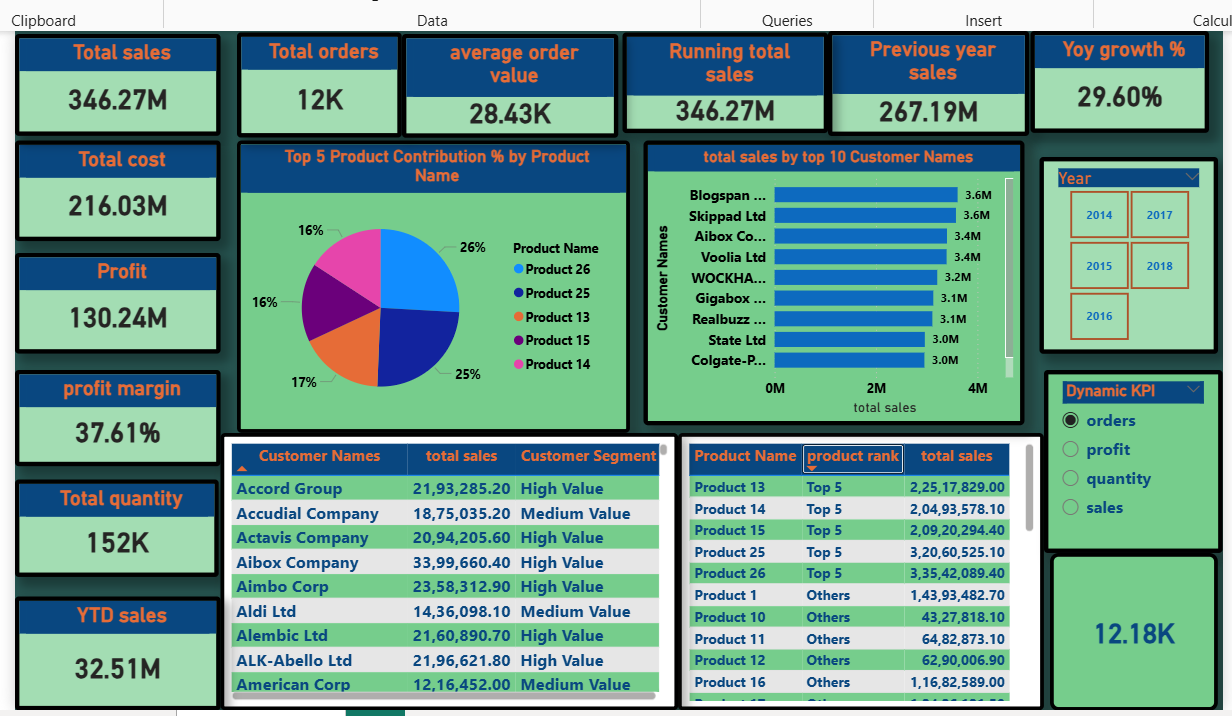

Layout of this report page (visuals, bound fields, positions):
{"tool":"powerbi","page":{"name":"assignment 2","canvas":[1280,720],"ordinal":0},"visuals":[{"type":"card","title":"Total cost","fields":{"Values":["dax querries.total cost"]},"box":[0,116.1,217.9,106.6],"z":0},{"type":"card","title":"Total sales","fields":{"Values":["dax querries.total sales"]},"box":[0,3.2,217.9,108.2],"z":1000},{"type":"card","title":"Profit","fields":{"Values":["dax querries.profit"]},"box":[0,235.4,217.9,106.6],"z":2000},{"type":"card","title":"profit margin","fields":{"Values":["dax querries.profit margin"]},"box":[0,359.5,217.9,101.8],"z":3000},{"type":"card","title":"Total quantity","fields":{"Values":["dax querries.total quantity"]},"box":[0,475.6,216.3,103.4],"z":4000},{"type":"card","title":"Previous year sales","fields":{"Values":["dax querries.Previous Year Sales"]},"box":[862.1,0,213.1,111.3],"z":5000},{"type":"card","title":"Yoy growth %","fields":{"Values":["dax querries.YoY Growth %"]},"box":[1076.8,0,189.3,108.2],"z":6000},{"type":"card","title":"Running total sales","fields":{"Values":["dax querries.Running Total Sales"]},"box":[644.2,1.6,217.9,106.6],"z":7000},{"type":"tableEx","fields":{"Values":["Products_Data.Product Name","dax querries.product rank","dax querries.total sales"]},"box":[703.1,426.3,388.1,294.3],"z":8000},{"type":"pieChart","title":" Top 5 Product Contribution % by Product Name","fields":{"Category":["Products_Data.Product Name"],"Y":["dax querries.Product Contribution %"]},"box":[235.4,116.1,416.7,310.2],"z":9000},{"type":"barChart","title":"total sales by top 10 Customer Names","fields":{"Category":["Customer_Data.Customer Names"],"Y":["dax querries.total sales"]},"box":[666.5,116.1,404,302.2],"z":10000},{"type":"tableEx","fields":{"Values":["Customer_Data.Customer Names","dax querries.total sales","dax querries.Customer Segment"]},"box":[217.9,426.3,485.1,294.3],"z":11000},{"type":"card","title":"Total orders","fields":{"Values":["dax querries.Total Orders"]},"box":[235.4,1.6,175,111.3],"z":12000},{"type":"card","title":"average order value","fields":{"Values":["dax querries.Average Order Value"]},"box":[410.4,3.2,229,109.8],"z":13000},{"type":"card","title":"YTD sales","fields":{"Values":["dax querries.current YTD"]},"box":[0,599.7,217.9,120.9],"z":14000},{"type":"slicer","fields":{"Values":["KPI_Table (2).KPI"]},"box":[1091.2,359.5,189.3,194.1],"z":15000},{"type":"card","fields":{"Values":["dax querries.Selected KPI"]},"box":[1097.5,553.5,178.1,167],"z":16000},{"type":"slicer","fields":{"Values":["date.Year"]},"box":[1086.4,133.6,189.3,208.4],"z":17000}]}

Visuals, with their boxes in screenshot pixels (x1, y1, x2, y2):
"Total cost" card: bbox=[10, 133, 216, 234]
"Total sales" card: bbox=[10, 25, 216, 128]
"Profit" card: bbox=[10, 246, 216, 347]
"profit margin" card: bbox=[10, 364, 216, 460]
"Total quantity" card: bbox=[10, 474, 215, 572]
"Previous year sales" card: bbox=[828, 22, 1030, 128]
"Yoy growth %" card: bbox=[1032, 22, 1211, 125]
"Running total sales" card: bbox=[621, 24, 828, 125]
tableEx - Products_Data.Product Name x dax querries.product rank: bbox=[677, 427, 1045, 706]
" Top 5 Product Contribution % by Product Name" pieChart: bbox=[233, 133, 629, 427]
"total sales by top 10 Customer Names" barChart: bbox=[642, 133, 1026, 420]
tableEx - Customer_Data.Customer Names x dax querries.total sales: bbox=[216, 427, 677, 706]
"Total orders" card: bbox=[233, 24, 399, 130]
"average order value" card: bbox=[399, 25, 617, 130]
"YTD sales" card: bbox=[10, 592, 216, 706]
slicer - KPI_Table (2).KPI: bbox=[1045, 364, 1225, 548]
card - dax querries.Selected KPI: bbox=[1051, 548, 1220, 706]
slicer - date.Year: bbox=[1041, 149, 1221, 347]
